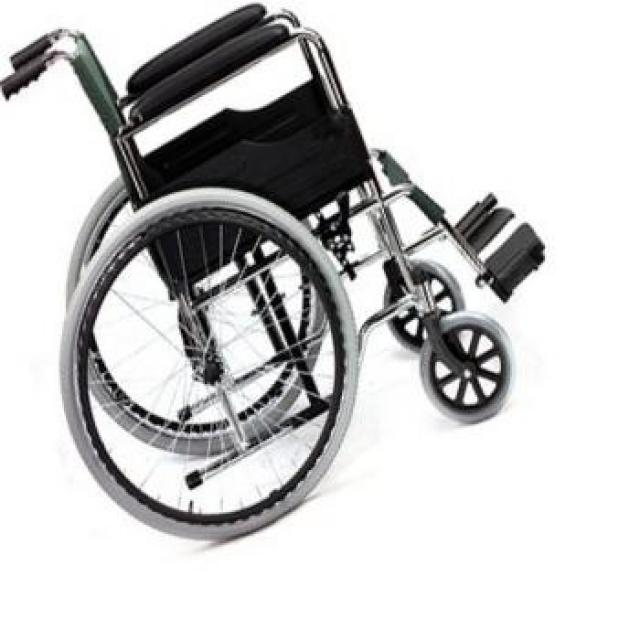wheelchair: (2, 0, 554, 547)
